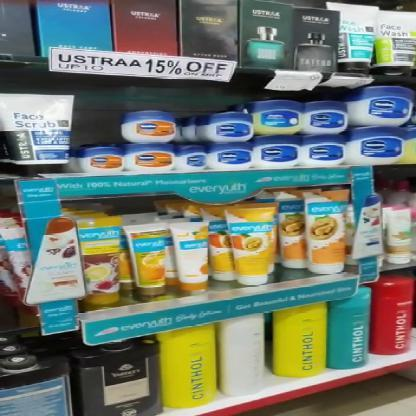EY ADVANCED GOLDEN GLOW PEEL OFF M- 90G: (128, 225, 164, 293)
EY EXF WALNUT SCRUB AYR 200G: (307, 200, 342, 272), (278, 202, 308, 262)
EY HYD-EXF WALNT APR SCRUB AYR100G: (236, 209, 276, 281), (206, 218, 236, 280)
EY NAT GLOW ORANGE PEEL OFF AY 90G: (170, 224, 209, 290)
